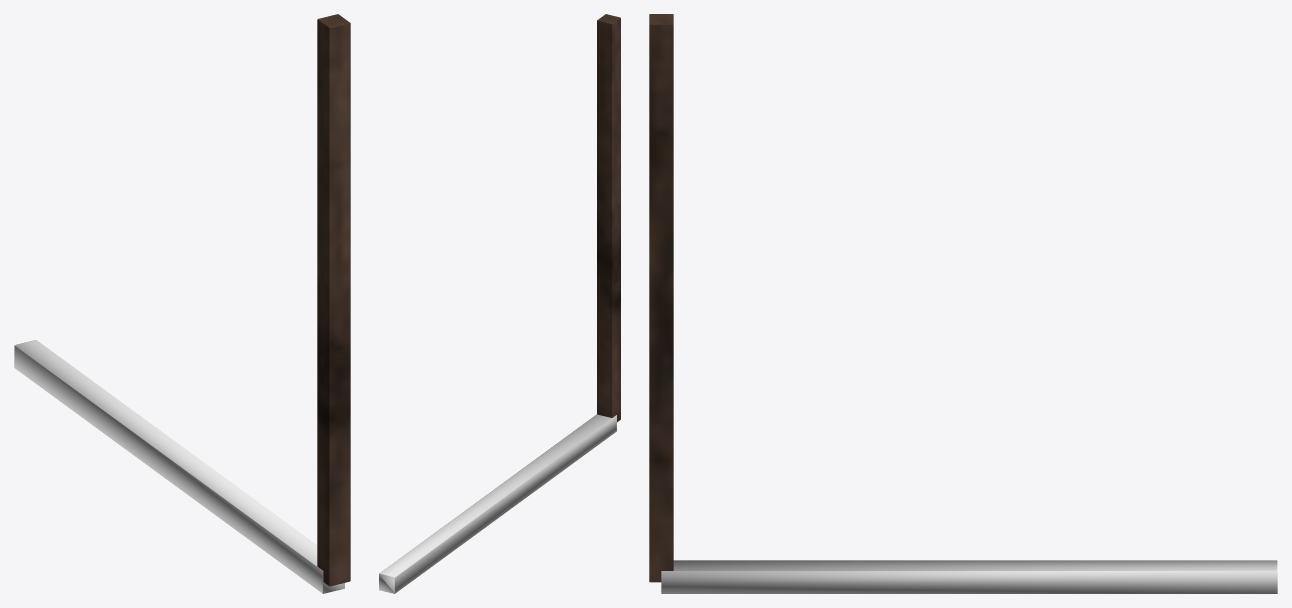
Rendered from SM_Beam_Basic.fbx.
3 views of the same model, side by side, from view 1: azimuth 30°, elevation 25°; view 2: azimuth 150°, elevation 25°; view 3: azimuth 270°, elevation 25° (orthographic). The views are drawn at different scales.
Parts seen in each view (by area): view 1: SM_Beam_Basic, SM_Beam_Basic_ConvexHulls; view 2: SM_Beam_Basic, SM_Beam_Basic_ConvexHulls; view 3: SM_Beam_Basic_ConvexHulls, SM_Beam_Basic.
Part boxes in pixels (bbox=[...]): SM_Beam_Basic: bbox=[317, 14, 350, 586]; SM_Beam_Basic_ConvexHulls: bbox=[14, 340, 344, 593]; SM_Beam_Basic: bbox=[597, 14, 620, 422]; SM_Beam_Basic_ConvexHulls: bbox=[379, 414, 616, 593]; SM_Beam_Basic_ConvexHulls: bbox=[661, 560, 1277, 593]; SM_Beam_Basic: bbox=[649, 14, 673, 582].
Size of the model in its own units: 0.1025 by 2.55 by 2.55.
